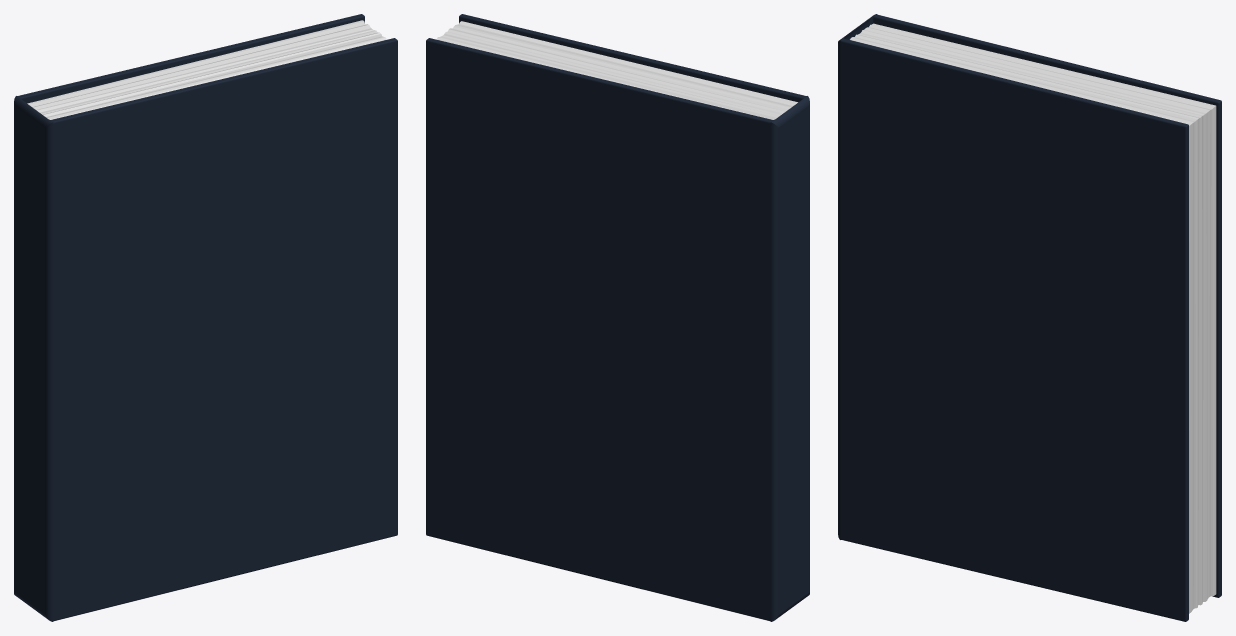
3 renders of one model, left to right at view 1: azimuth 30°, elevation 25°; view 2: azimuth 150°, elevation 25°; view 3: azimuth 330°, elevation 25°, orthographic.
Visible parts, largest first — view 1: shadeLightRed, shadeWhite.124; view 2: shadeLightRed, shadeWhite.124; view 3: shadeLightRed, shadeWhite.124.
Part boxes in pixels (x1=…): shadeLightRed: x1=14, y1=14, x2=397, y2=621; shadeWhite.124: x1=27, y1=20, x2=386, y2=119; shadeLightRed: x1=426, y1=14, x2=809, y2=621; shadeWhite.124: x1=436, y1=21, x2=797, y2=119; shadeLightRed: x1=838, y1=14, x2=1221, y2=621; shadeWhite.124: x1=850, y1=23, x2=1216, y2=613.
Size of the model in its own units: 2.05 by 2.79 by 0.3658.
